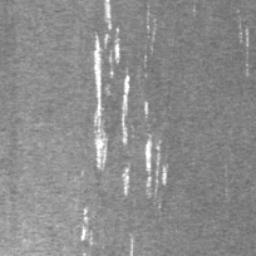White rust: (93, 0, 131, 171), (144, 133, 169, 208), (237, 20, 250, 77), (80, 206, 94, 245), (145, 3, 157, 43), (120, 165, 130, 197), (129, 232, 134, 256), (144, 99, 149, 116), (143, 52, 148, 68), (192, 3, 199, 14)
